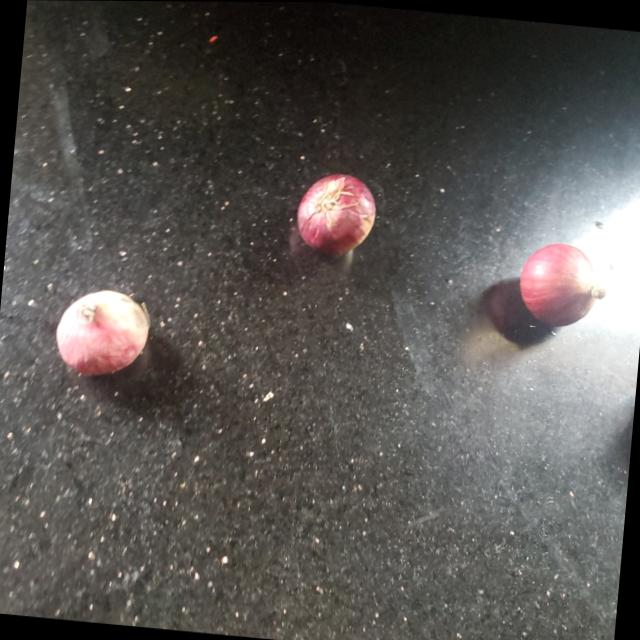onion: (54, 287, 154, 381), (516, 240, 600, 331), (292, 166, 379, 253)
